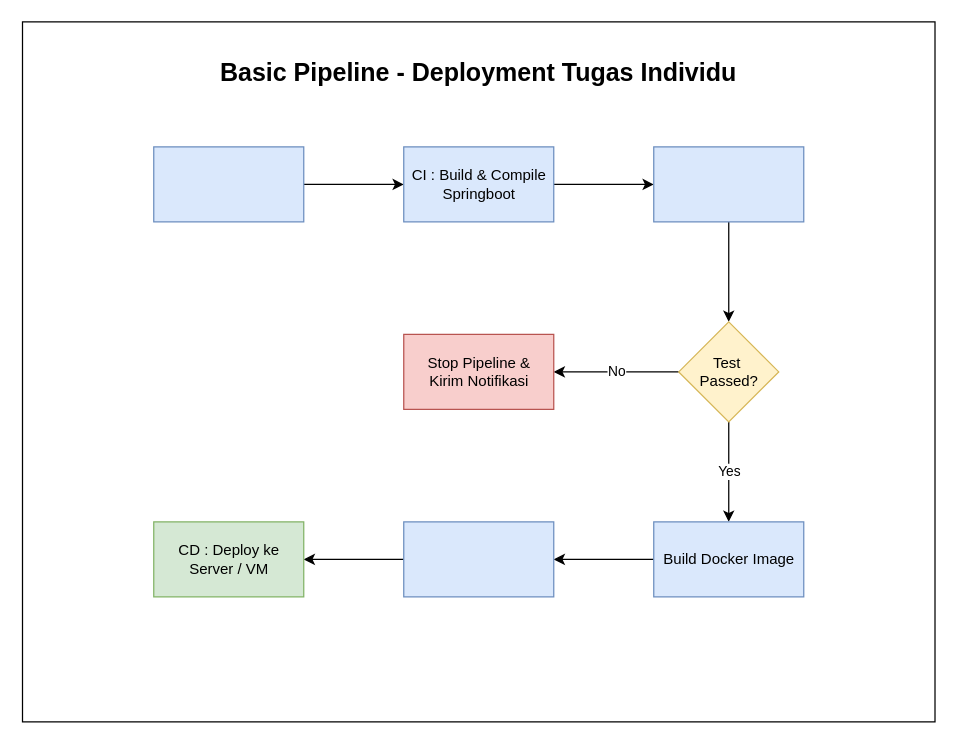
Image size: 956x744. Some labels were removed from this diagram. The shapes that lost their labels are listed below. From the top down, each one's centre as x and y in pixels, then its label:
(228,184): Push Code ke Git Repository
(728,184): CI : Run Unit Test
(478,559): Push Image ke Container Registry
